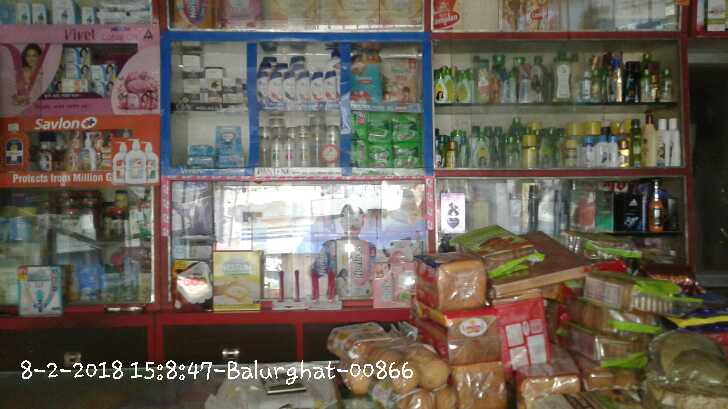venus: (215, 126, 242, 168), (185, 145, 215, 168)
